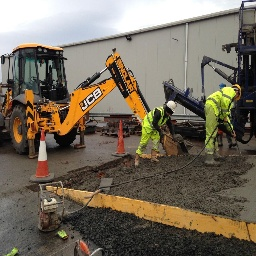helmet: (164, 100, 177, 117)
person: (202, 81, 243, 164), (141, 99, 175, 167)
vest: (207, 87, 235, 112), (144, 108, 164, 135)
